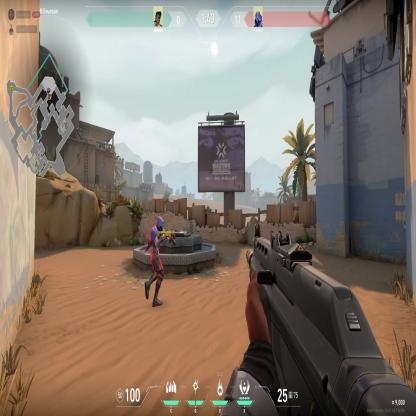enemy: (142, 213, 176, 311)
